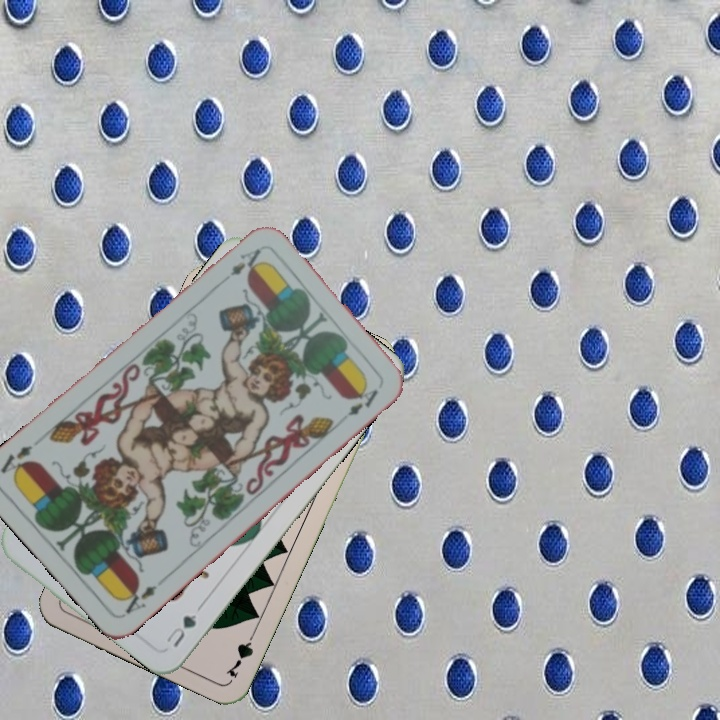EA: (118, 581, 160, 617), (225, 244, 264, 279)
G7: (223, 626, 259, 681)
GU: (162, 601, 205, 650)
